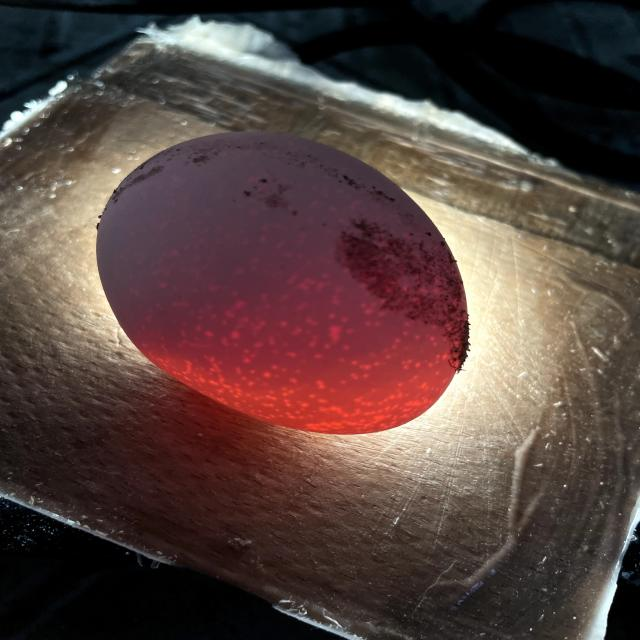fertile: (97, 131, 468, 434)
